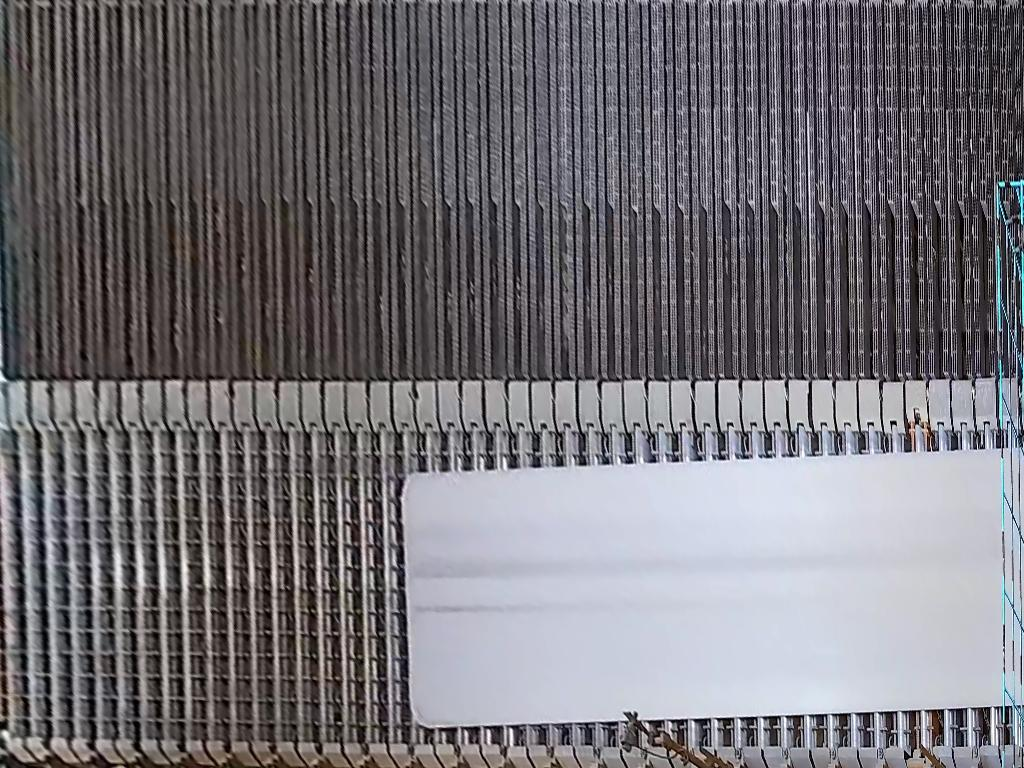steel: (402, 447, 1024, 730)
